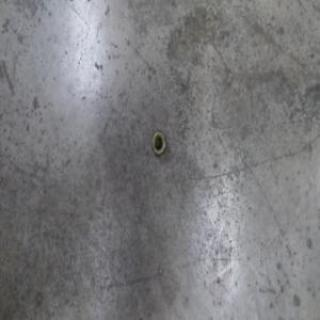Nuttrack_idkeyframe: (150, 127, 166, 158)
